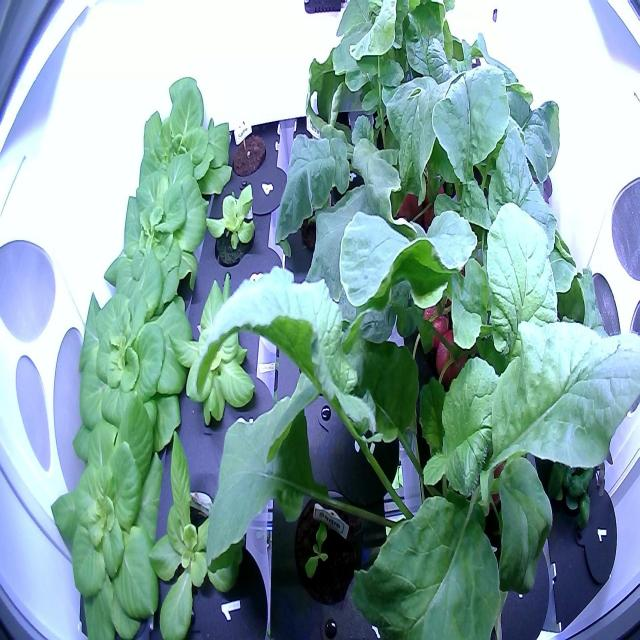pod: (225, 119, 270, 189)
young: (38, 398, 174, 639), (138, 413, 252, 640), (66, 271, 195, 461), (101, 146, 216, 302), (130, 61, 238, 214), (169, 267, 265, 437), (286, 477, 363, 610), (197, 176, 264, 274)
